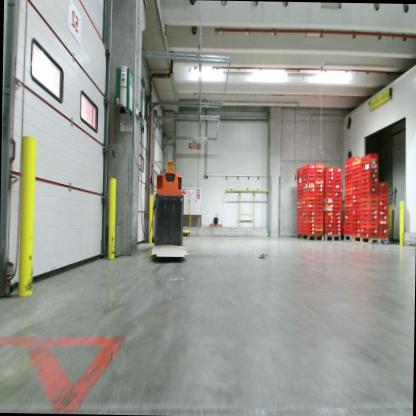pallet: (351, 235, 389, 247), (296, 231, 323, 240), (324, 233, 342, 241), (341, 232, 352, 240)
pallet_truck: (141, 168, 190, 273)
